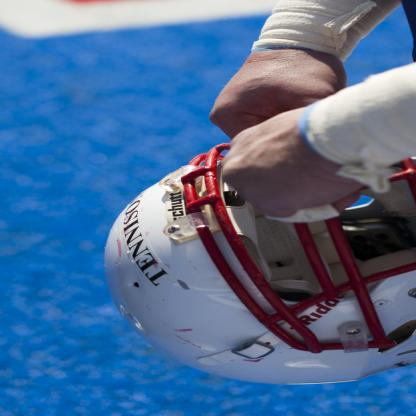Helmet: (102, 143, 415, 385)
